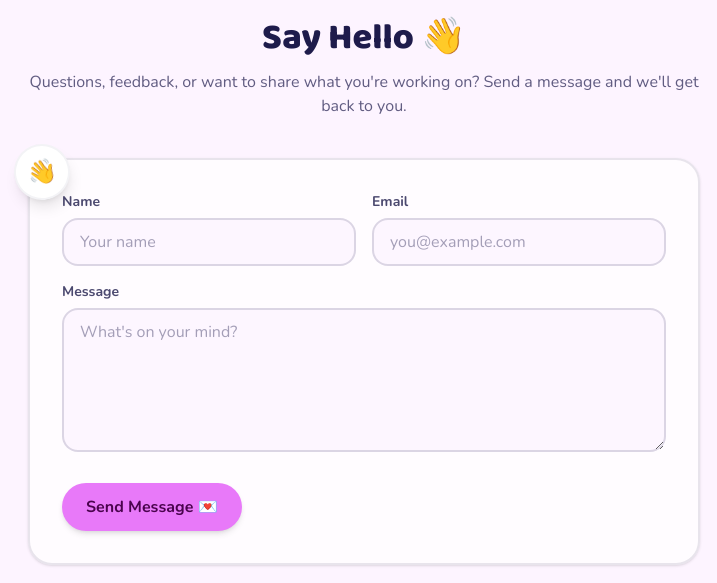
Test: ContactForm › posts the form fields as JSON and shows the sent confirmation on success
The image size is (717, 583).
Type "Ada Lovelace" into the field labelled "Name" at x=209, y=242, box [62, 218, 356, 266]
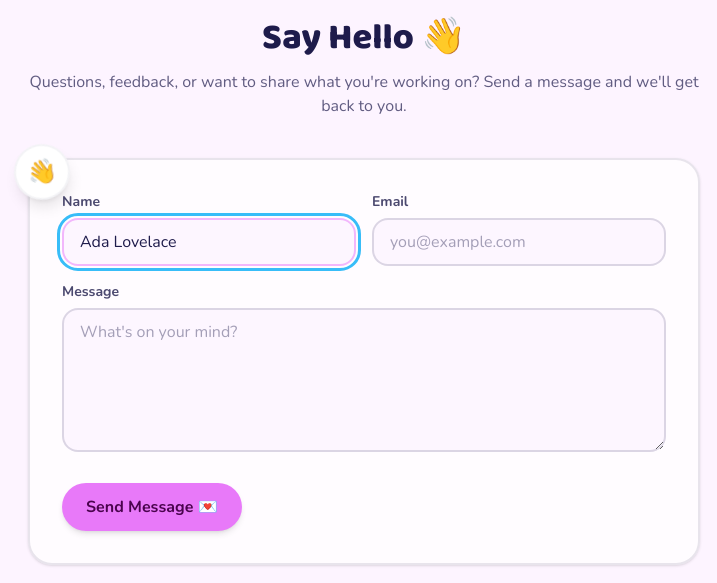
Type "ada@example.com" into the field labelled "Email" at x=519, y=242, box [372, 218, 666, 266]
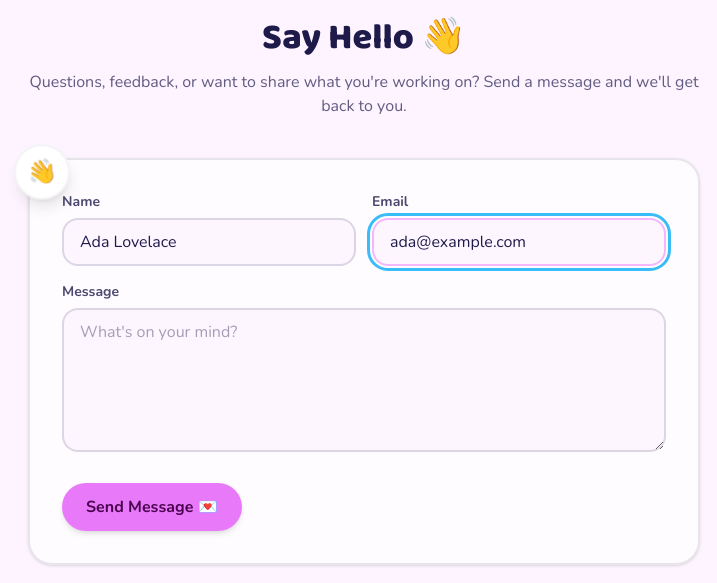
Type "Hello there" into the text box labelled "Message" at x=364, y=380, box [62, 308, 666, 452]
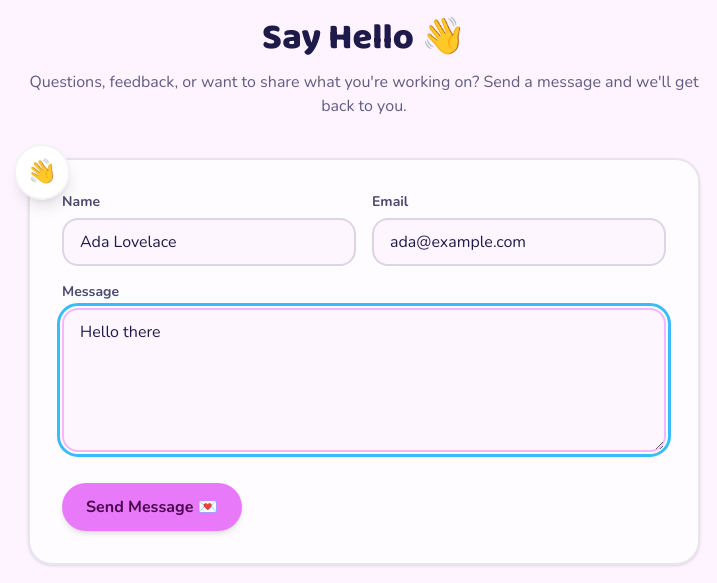
Click the button "Send Message 💌" at x=152, y=507, box [62, 483, 242, 531]
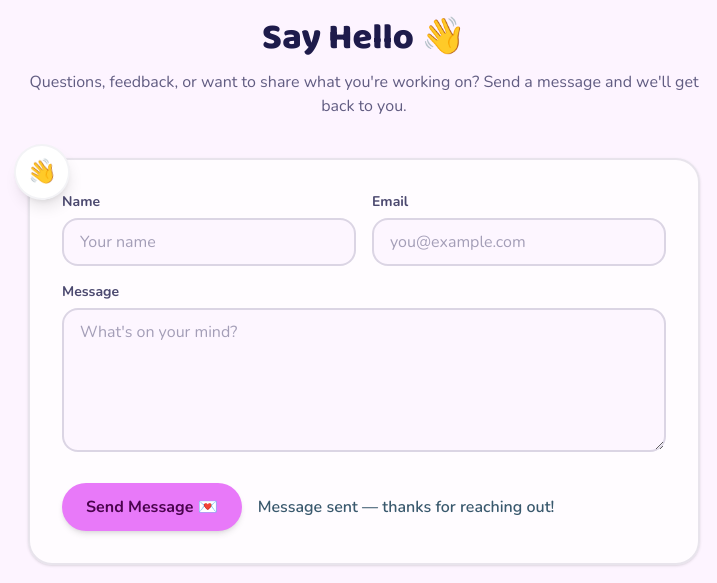
Now the message shows "sent", box [258, 496, 554, 518]
